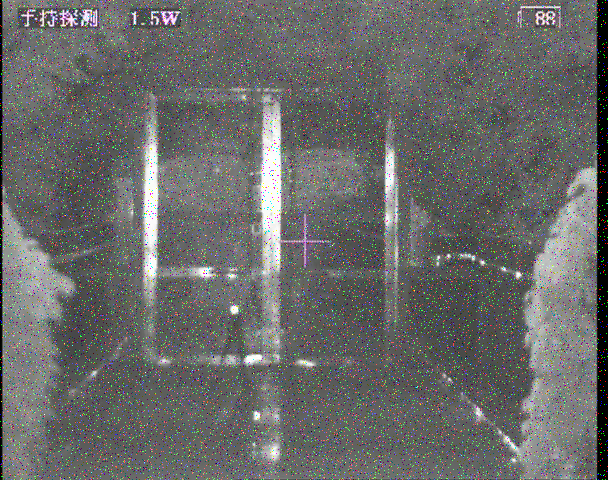my: (229, 304, 239, 316)
